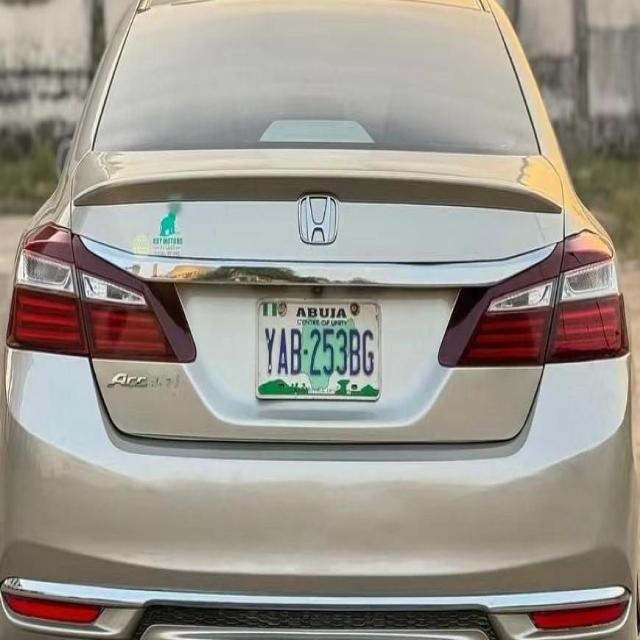Nigerian License Plate - vdataset benjamin-daria: (255, 286, 384, 406)
